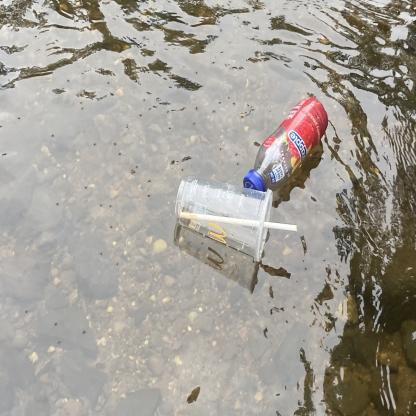trash: (172, 173, 299, 263), (237, 90, 332, 202)
